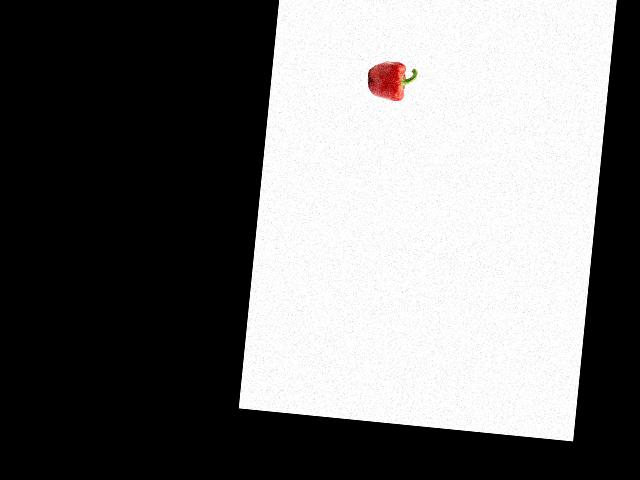bell_pepper: (363, 56, 419, 105)
